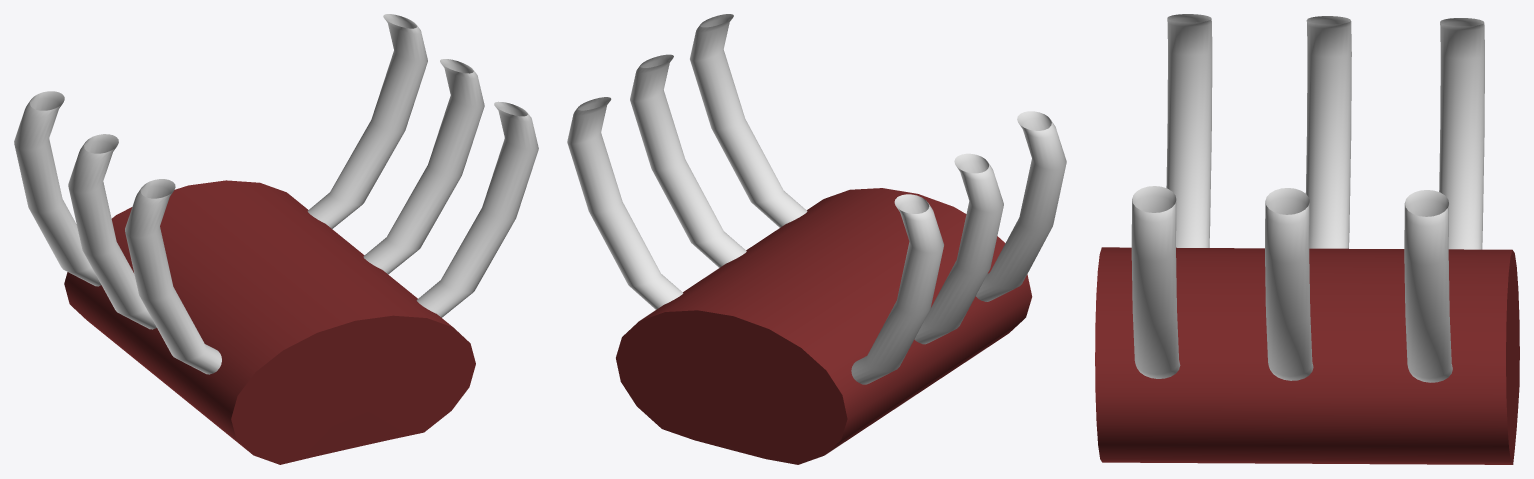
Rendered from Meat.fbx.
The picture shows the model from 3 angles, left to right: view 1: azimuth 30°, elevation 25°; view 2: azimuth 150°, elevation 25°; view 3: azimuth 270°, elevation 25°; orthographic projection. The views are drawn at different scales.
Parts seen in each view (by area): view 1: polySurface123; view 2: polySurface123; view 3: polySurface123.
Boxes of the visible parts, x1=… form: polySurface123: x1=14, y1=14, x2=538, y2=464; polySurface123: x1=567, y1=14, x2=1066, y2=464; polySurface123: x1=1095, y1=14, x2=1519, y2=464.
Size of the model in its own units: 2.68 by 1.83 by 2.13.
